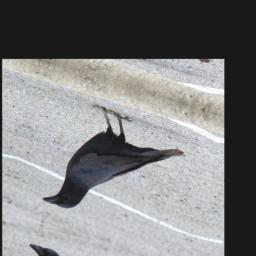Crow: (41, 96, 190, 240)
